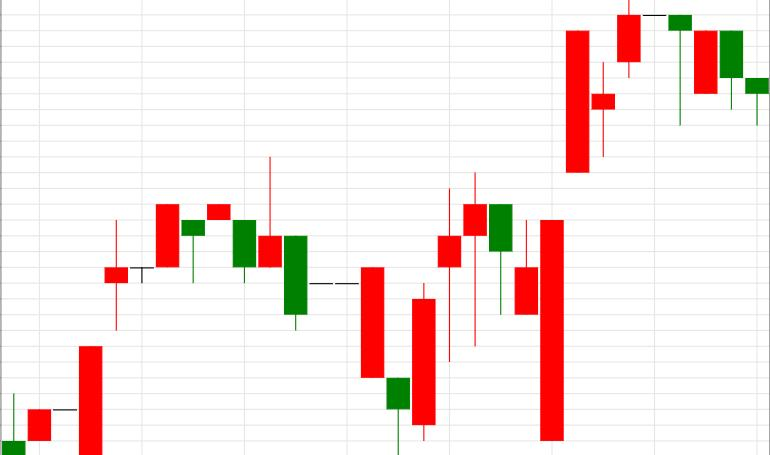hammer_rise: (208, 156, 409, 455)
